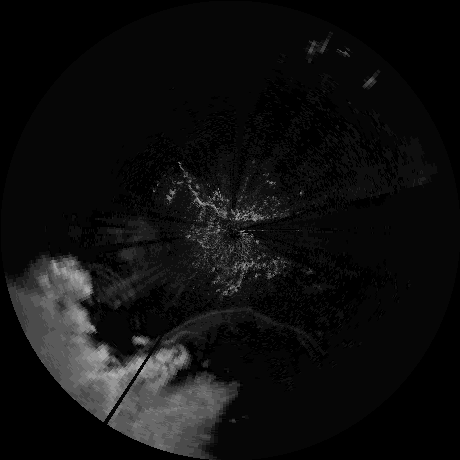frontgust: (157, 307, 307, 341)
